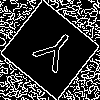Y: (25, 25, 80, 81)
